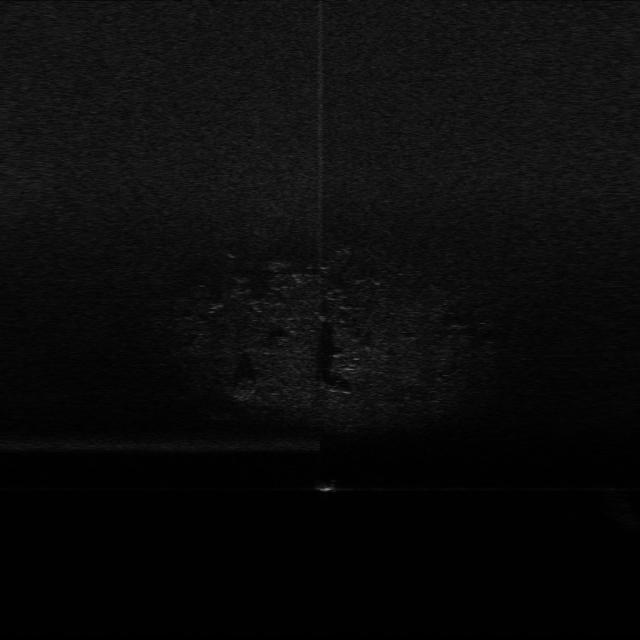square cage: (308, 476, 347, 494)
